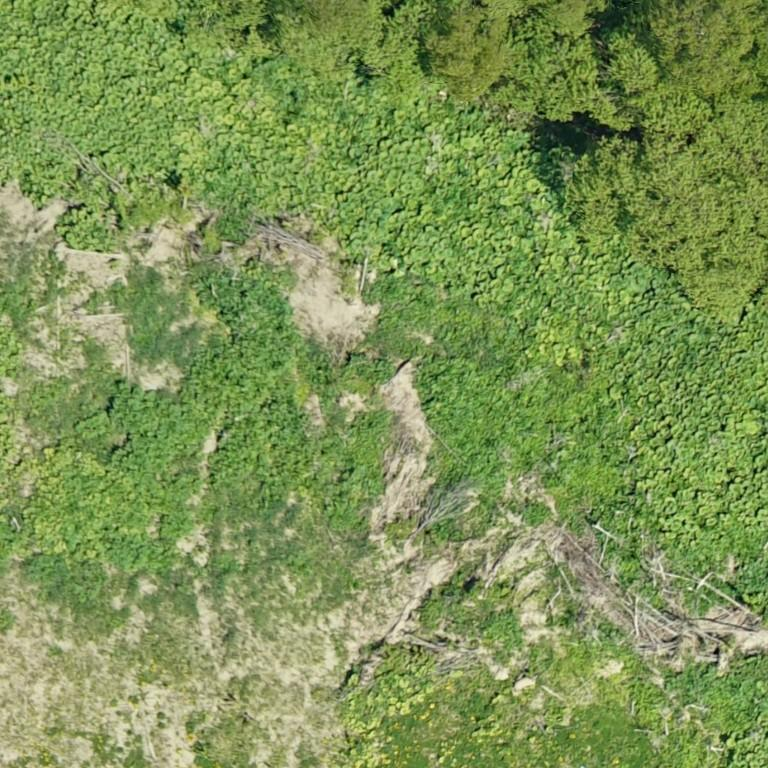hogweed: (109, 271, 380, 527), (416, 356, 580, 483), (666, 670, 757, 700)
